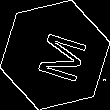M_W: (25, 26, 85, 84)
